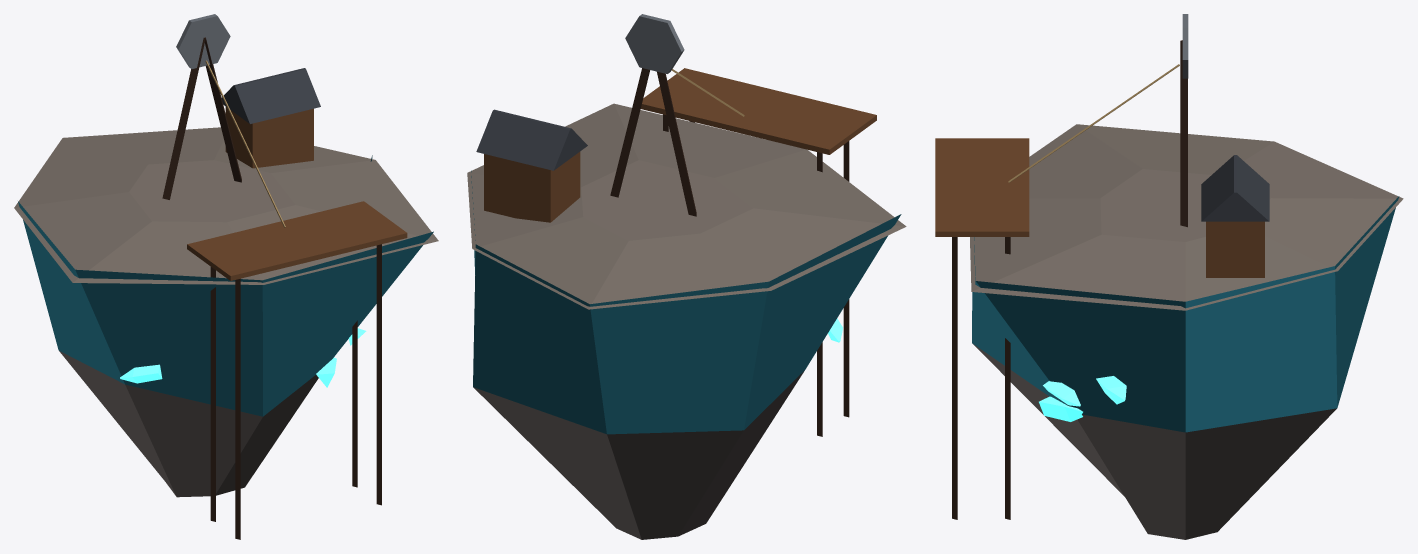
Rendered from SM_Env_LiftMine_LQ.glb.
3 renders of one model, left to right at view 1: azimuth 30°, elevation 25°; view 2: azimuth 150°, elevation 25°; view 3: azimuth 270°, elevation 25°, orthographic. The views are drawn at different scales.
Parts seen in each view (by area): view 1: SM_Env_LiftMine_LQ; view 2: SM_Env_LiftMine_LQ; view 3: SM_Env_LiftMine_LQ.
Boxes of the visible parts, <box> form: SM_Env_LiftMine_LQ: <box>14,14,438,539</box>; SM_Env_LiftMine_LQ: <box>467,14,906,539</box>; SM_Env_LiftMine_LQ: <box>935,14,1403,539</box>.
Bounding box in the file's own units: 14.99 × 18.75 × 15.91.
1 material, 1 textured.
